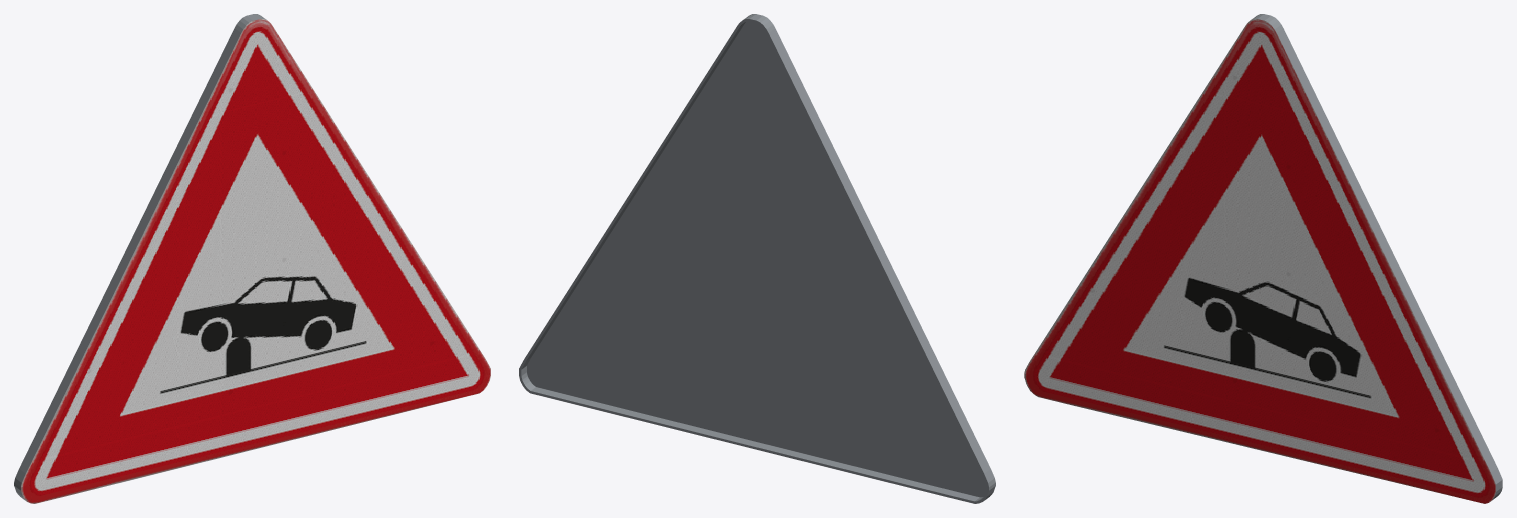
The picture shows the model from 3 angles, left to right: view 1: azimuth 30°, elevation 25°; view 2: azimuth 150°, elevation 25°; view 3: azimuth 330°, elevation 25°; orthographic projection.
Visible parts, largest first — view 1: cat_bde25df5ab96d935; view 2: cat_bde25df5ab96d935; view 3: cat_bde25df5ab96d935.
Boxes of the visible parts, x1,y1,x2,y2 form: cat_bde25df5ab96d935: [14, 14, 490, 503]; cat_bde25df5ab96d935: [519, 14, 995, 503]; cat_bde25df5ab96d935: [1024, 14, 1502, 503].
Size of the model in its own units: 0.6 by 0.015 by 0.5245.
2 materials, 1 textured.
